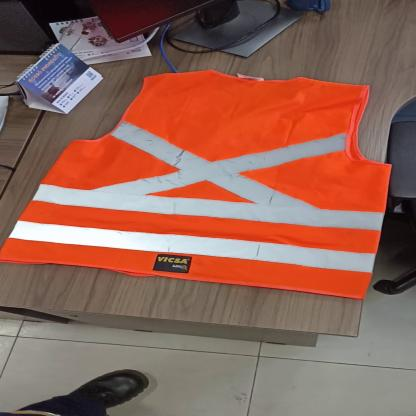colete: (2, 69, 395, 300)
